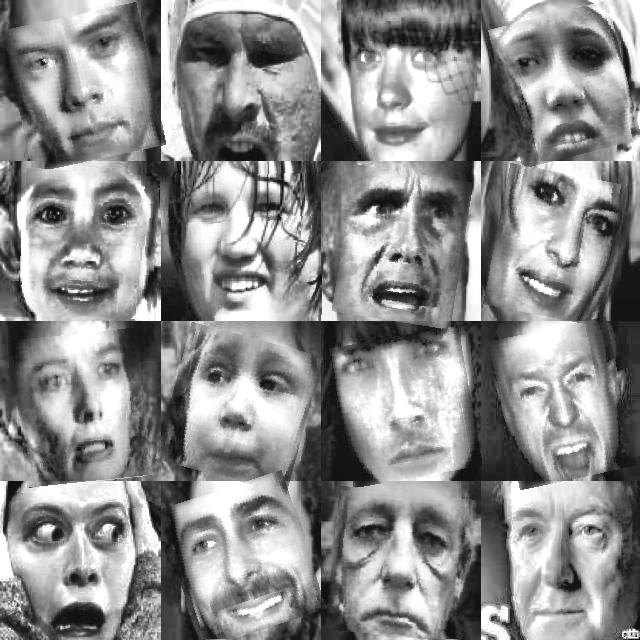angry: (496, 323, 630, 485), (15, 330, 148, 485), (174, 14, 311, 160)
fear: (338, 168, 468, 325), (12, 492, 144, 636)
happy: (166, 478, 316, 640), (160, 174, 322, 316), (330, 17, 472, 161), (20, 170, 158, 318), (490, 168, 622, 322), (496, 498, 630, 636)
neutral: (9, 9, 160, 167)
sad: (163, 330, 315, 486), (328, 489, 473, 640), (334, 331, 476, 483), (496, 6, 634, 161)
